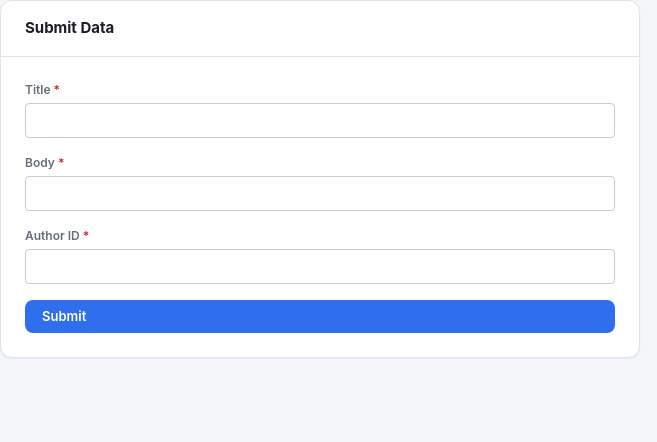
Scenario: OutboundFormUser › shows inline per-field required errors on submit, never a native alert
This screenshot has width=657, height=442.
Click the button "Submit": (64, 316) [25, 300, 615, 333]
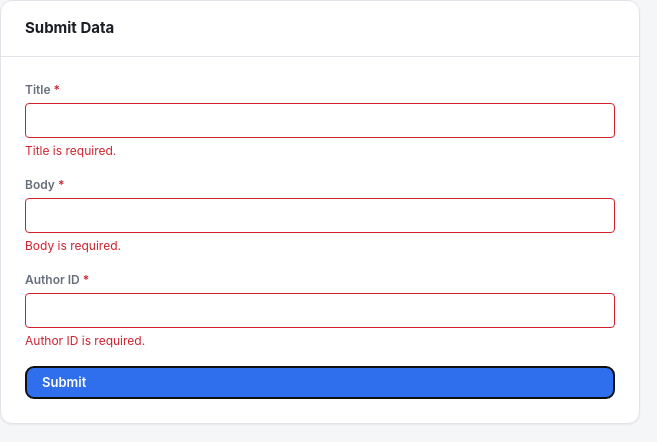
Expected: the text "Title is required." is shown, [25, 142, 116, 158]
Expected: the text "Body is required." is shown, [25, 238, 121, 252]
Expected: the text "Author ID is required." is shown, [25, 332, 145, 348]
